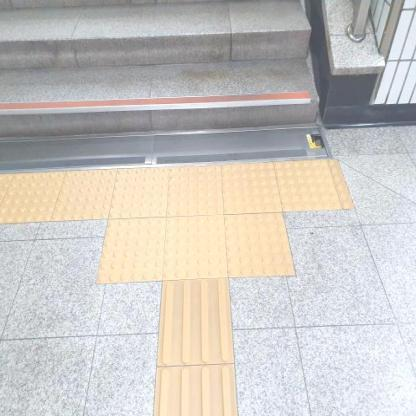podotacti: (0, 158, 358, 227), (153, 280, 240, 416)
